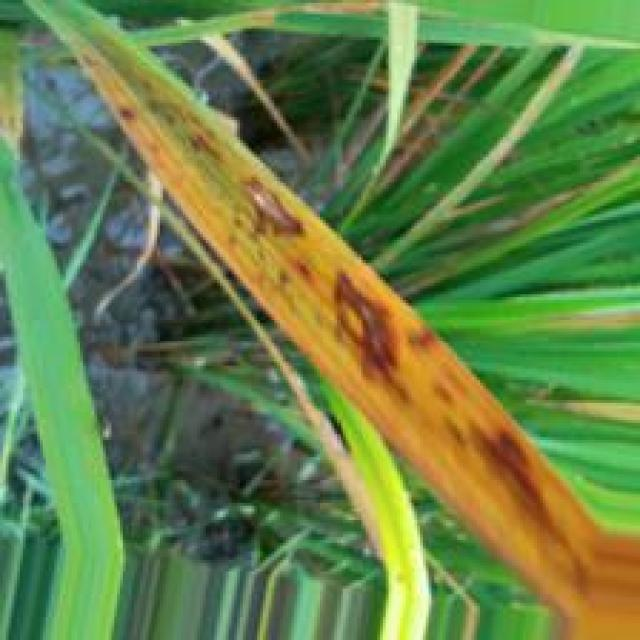Narrow_Brown_Leaf_Spot: (65, 46, 640, 640)
